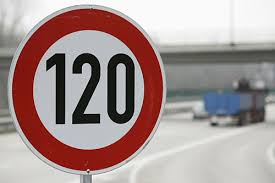Speed_limit_120km: (6, 3, 167, 175)
